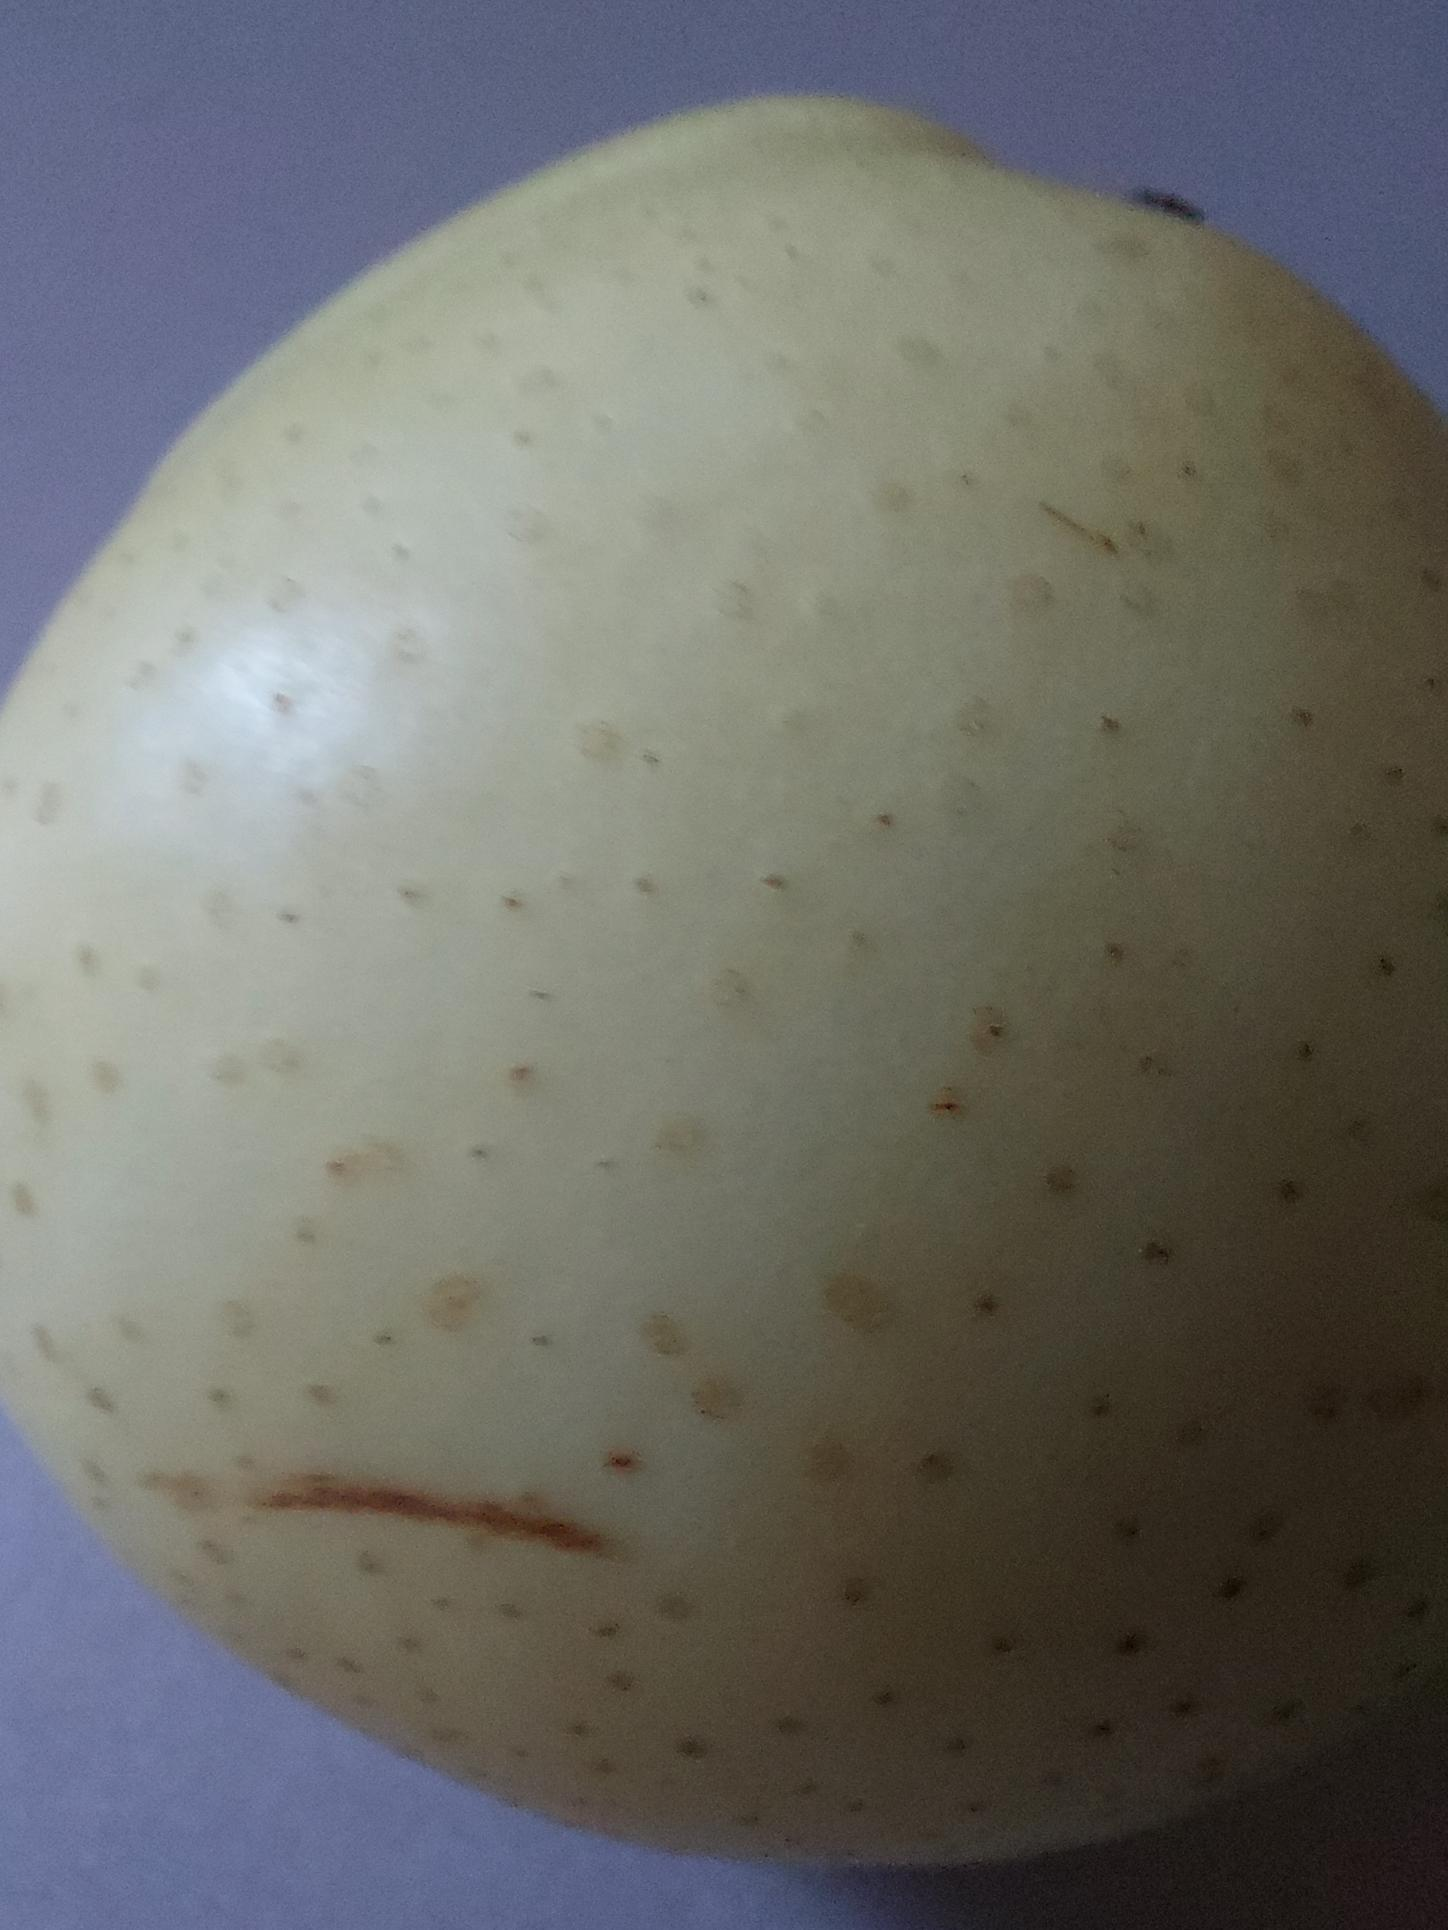Good Pear: (0, 99, 1448, 1880)
